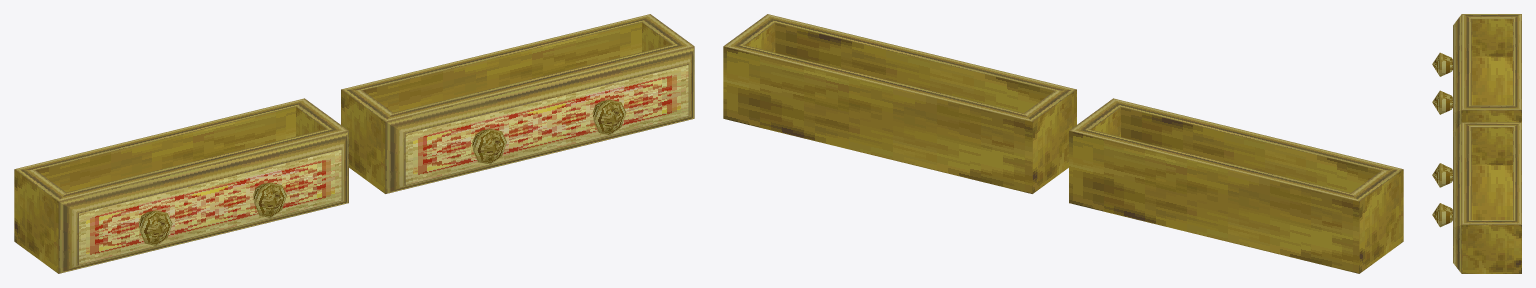
File: oto2.glb
3 views of the same model, side by side, from view 1: azimuth 30°, elevation 25°; view 2: azimuth 150°, elevation 25°; view 3: azimuth 270°, elevation 25° (orthographic). The views are drawn at different scales.
Visible parts, largest first — view 1: oto2_n00; view 2: oto2_n00; view 3: oto2_n00.
Boxes of the visible parts, bbox=[...] form: oto2_n00: bbox=[14, 14, 694, 273]; oto2_n00: bbox=[723, 14, 1403, 273]; oto2_n00: bbox=[1432, 14, 1521, 273].
Size of the model in its own units: 506 by 55 by 91.
4 materials, 4 textured.
